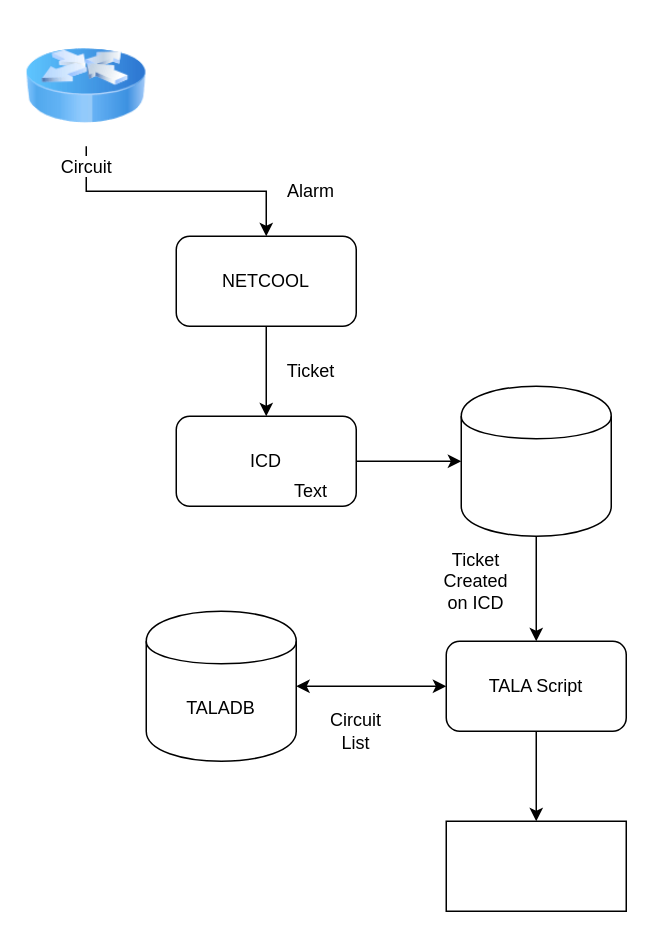
The diagram is 653 pixels wide and 938 high, and some of its shapes have lost their labels. Each missing label, with the centre of its shape:
Send Email/Create FS3 Ticket: point 535,865
VERTICADB: point 535,460
